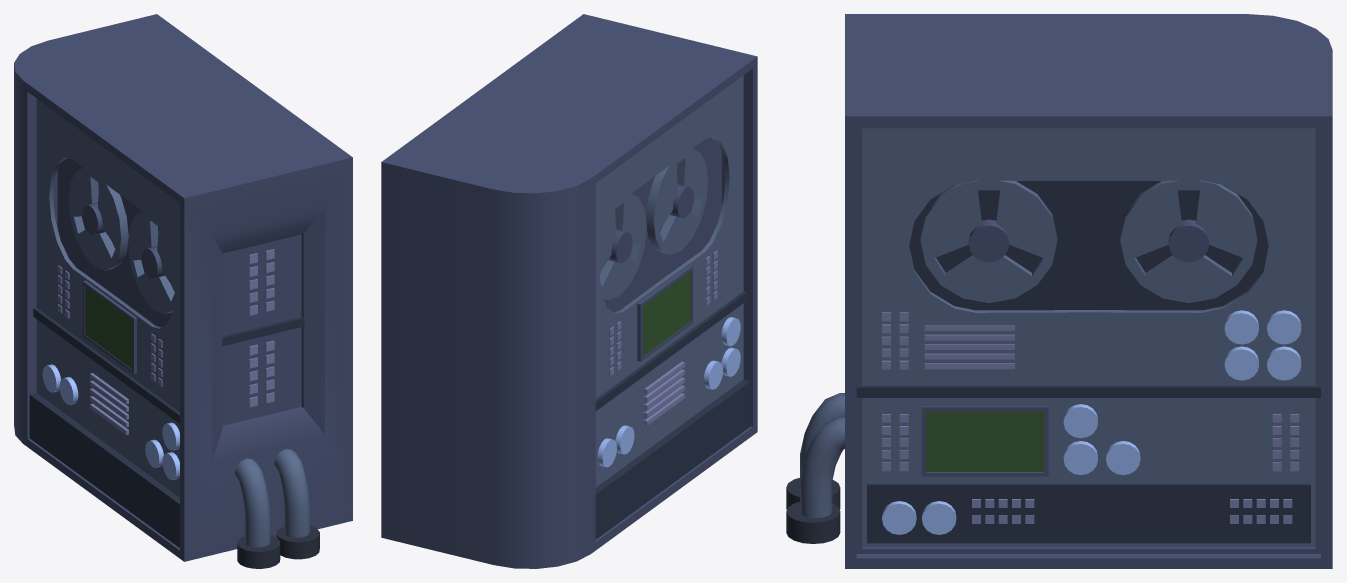
File: ServerMesh 1.fbx
3 views of the same model, side by side, from view 1: azimuth 30°, elevation 25°; view 2: azimuth 150°, elevation 25°; view 3: azimuth 270°, elevation 25° (orthographic). The views are drawn at different scales.
Parts seen in each view (by area): view 1: Cube.063, Cube.107, Cube.108, Cylinder.049, Cube.109, Plane.006, Plane.005, Cube.112, Cube.113, Cylinder.019, Cylinder.050, Cylinder.020 (+4 smaller); view 2: Cube.063, Cube.107, Cube.108, Cylinder.049, Cube.109, Cube.112, Cube.113, Cylinder.050; view 3: Cube.063, Cube.067, Cube.064, Cylinder.016, Cube.074, Cube.070, Plane.006, Cube.083, Cylinder.017, Cylinder.020, Plane.005, Cylinder.022 (+13 smaller).
Boxes of the visible parts, bbox=[...] form: Cube.063: bbox=[14, 14, 352, 561]; Cube.107: bbox=[36, 99, 179, 497]; Cube.108: bbox=[29, 393, 179, 547]; Cylinder.049: bbox=[68, 168, 175, 314]; Cube.109: bbox=[83, 280, 136, 373]; Plane.006: bbox=[274, 449, 310, 537]; Plane.005: bbox=[235, 458, 270, 547]; Cube.112: bbox=[33, 307, 179, 423]; Cube.113: bbox=[90, 373, 128, 434]; Cylinder.019: bbox=[237, 535, 280, 568]; Cylinder.050: bbox=[82, 202, 164, 278]; Cylinder.020: bbox=[276, 525, 319, 559]; Cube.063: bbox=[381, 14, 757, 568]; Cube.107: bbox=[595, 75, 743, 487]; Cube.108: bbox=[595, 379, 750, 539]; Cylinder.049: bbox=[599, 148, 708, 299]; Cube.109: bbox=[637, 265, 693, 361]; Cube.112: bbox=[595, 291, 746, 410]; Cube.113: bbox=[644, 361, 684, 425]; Cylinder.050: bbox=[608, 184, 693, 263]; Cube.063: bbox=[845, 14, 1332, 568]; Cube.067: bbox=[862, 128, 1315, 547]; Cube.064: bbox=[867, 484, 1310, 543]; Cylinder.016: bbox=[920, 180, 1257, 302]; Cube.074: bbox=[921, 406, 1048, 476]; Cube.070: bbox=[856, 385, 1320, 397]; Plane.006: bbox=[800, 417, 844, 518]; Cube.083: bbox=[924, 325, 1014, 369]; Cylinder.017: bbox=[968, 219, 1208, 262]; Cylinder.020: bbox=[786, 501, 840, 543]; Plane.005: bbox=[800, 393, 844, 476]; Cylinder.022: bbox=[1267, 310, 1301, 344].
Bounding box in the file's own units: 83.35 × 174 × 188.
